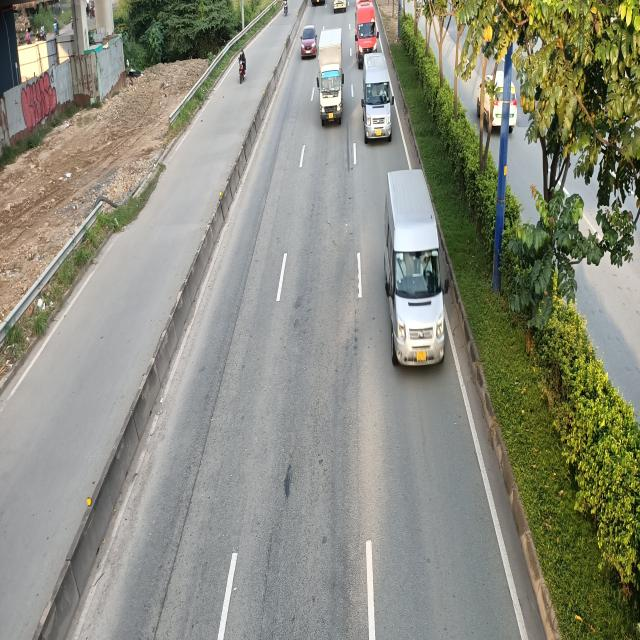car: (302, 25, 316, 58)
truck: (318, 29, 347, 126)
van: (386, 172, 450, 368), (361, 51, 393, 142), (354, 1, 377, 64)
